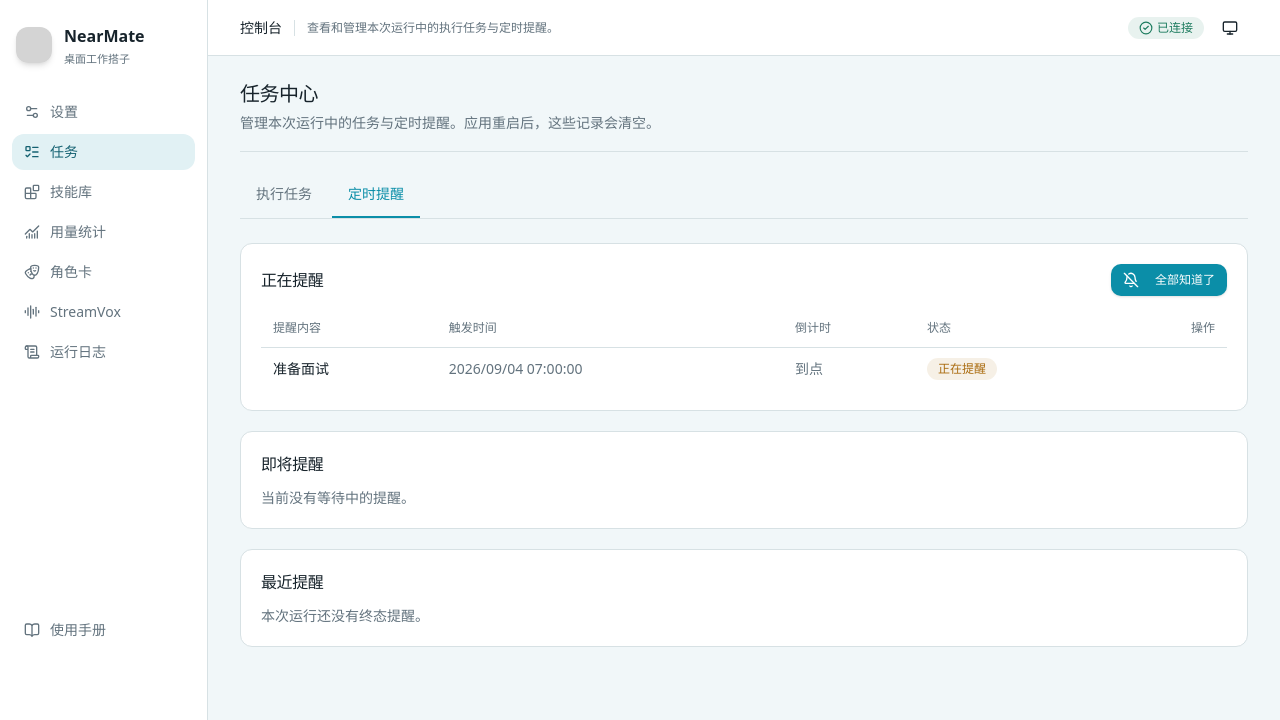
Scenario: console timed reminders › 第 1 次播放期间可关闭，并由 HTTP 权威快照收起正在提醒区
Expected: the text "准备面试" is shown, [273,359,329,378]
Click the button "全部知道了" at x=1169, y=280, box [1111,264,1227,296]
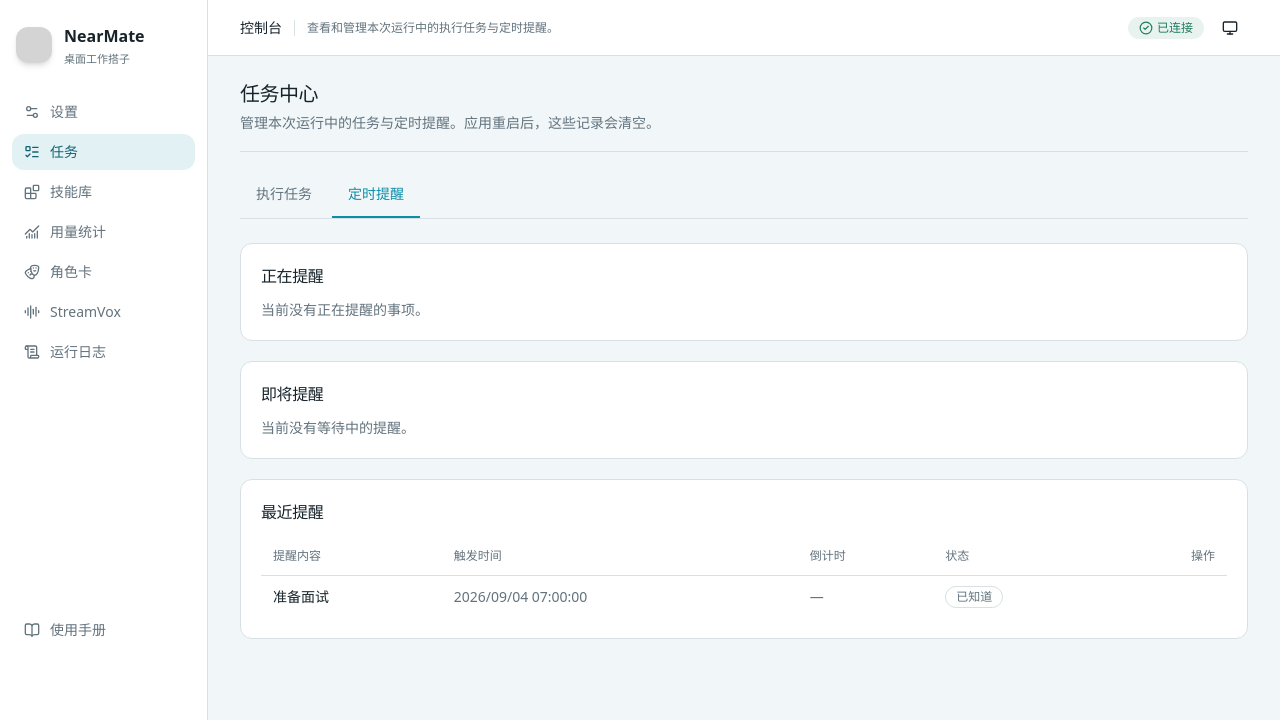
Expected: the text "已知道" is shown, [945,586,1003,608]
Expected: the text "当前没有正在提醒的事项。" is shown, [261,300,429,319]
